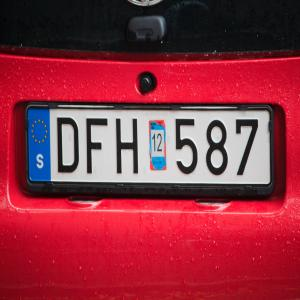Vehicle-registration-plate: (24, 103, 276, 200)
